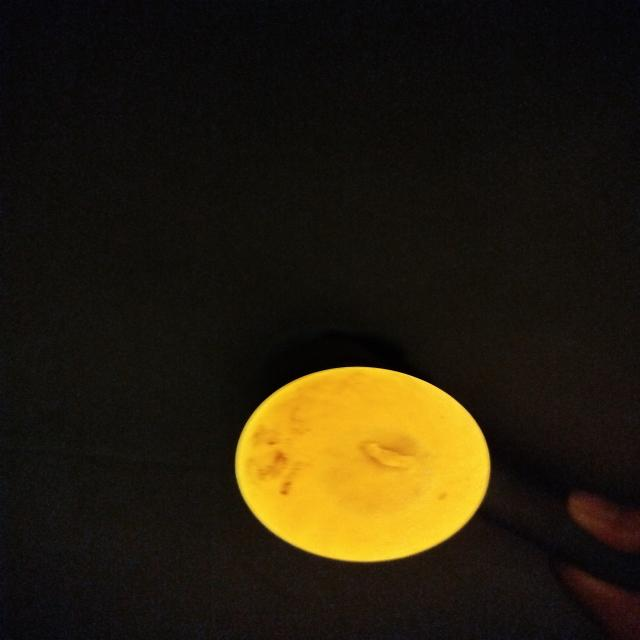Rachadura: (363, 443, 417, 470)
